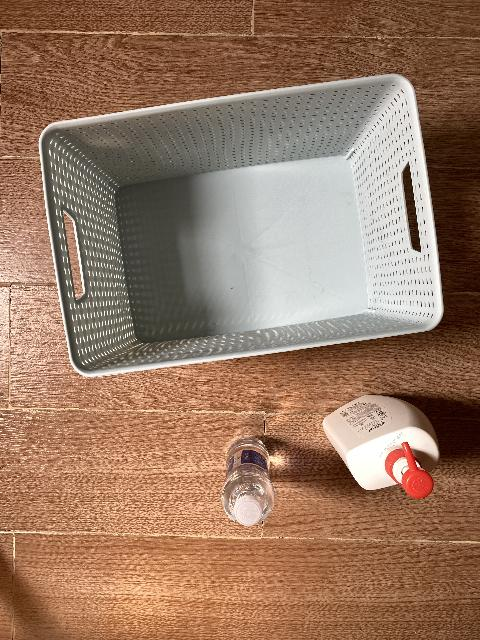aquafina: (221, 437, 275, 527)
cart: (38, 74, 444, 379)
life-buoy: (322, 395, 440, 500)
